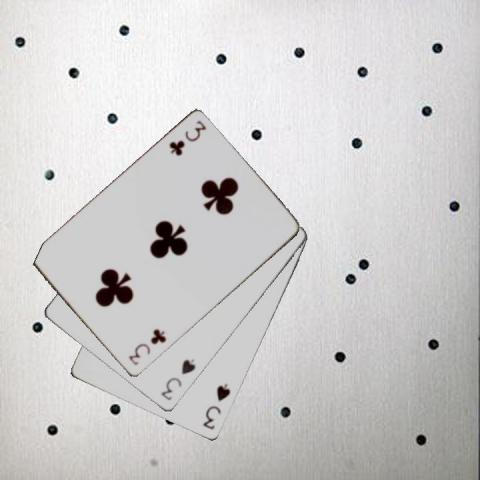3c: (126, 326, 168, 367), (166, 118, 207, 157)
3s: (158, 356, 197, 403), (200, 381, 232, 431)
